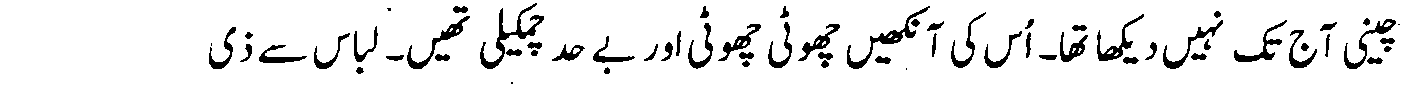bay_shosha: (352, 47, 368, 77)
